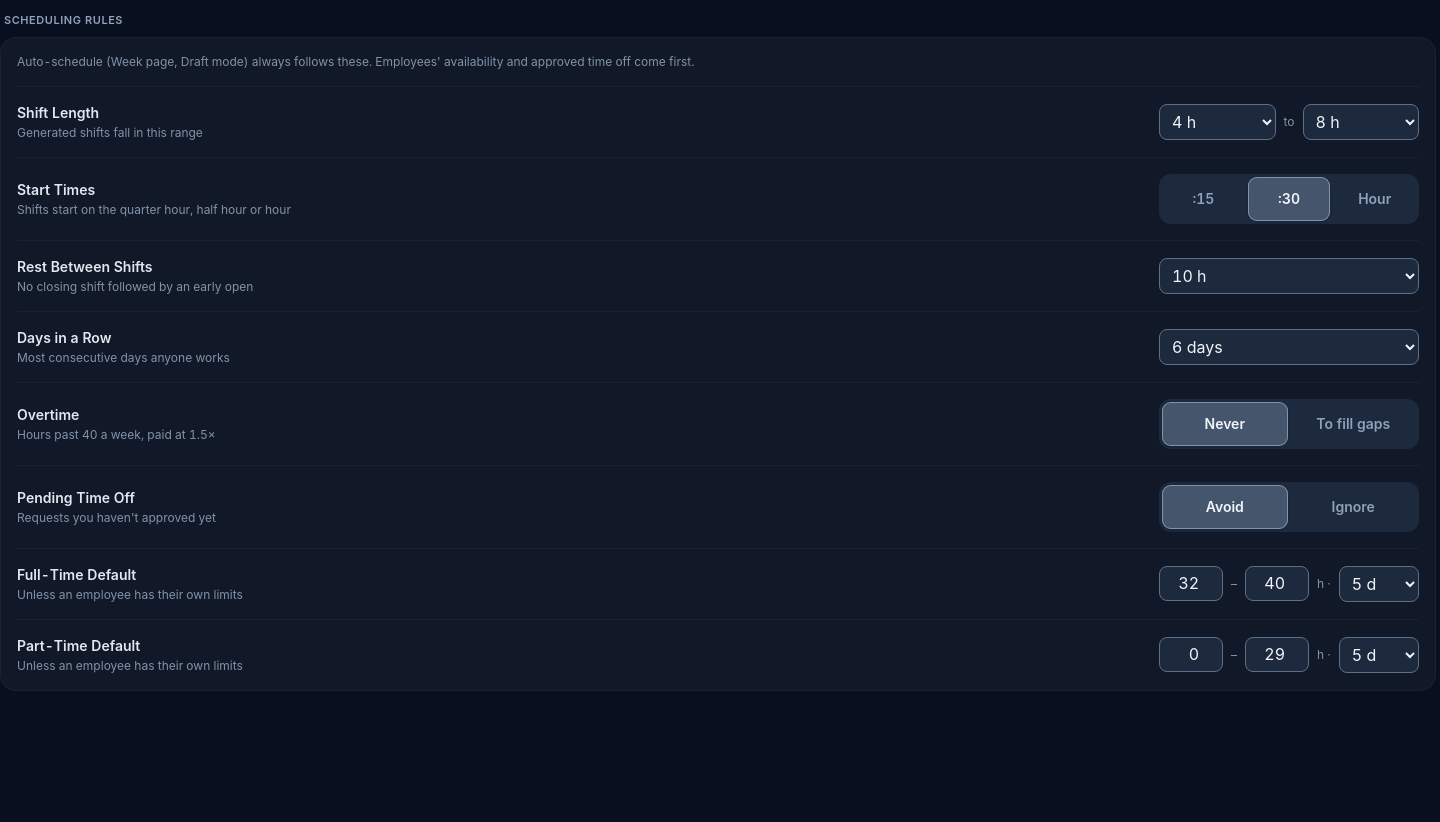
it: SchedulingRulesSection › reverts and shows an error when saving fails
Select "5 days" in the dropdown named "Most consecutive working days" at (1289, 346), box [1159,328,1419,364]
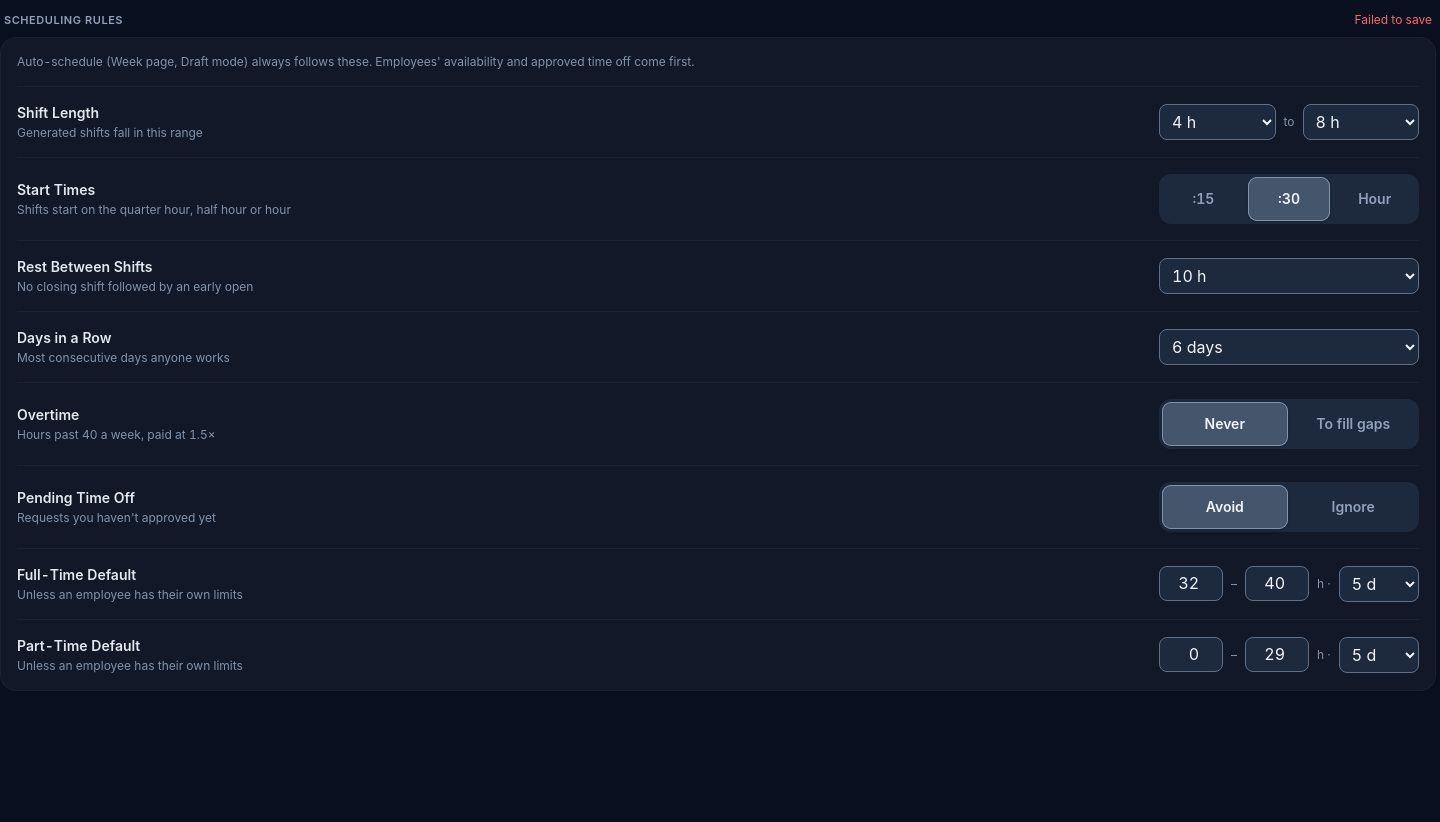
expect the text "Failed to save" is shown: met, box [1354,12,1432,28]
